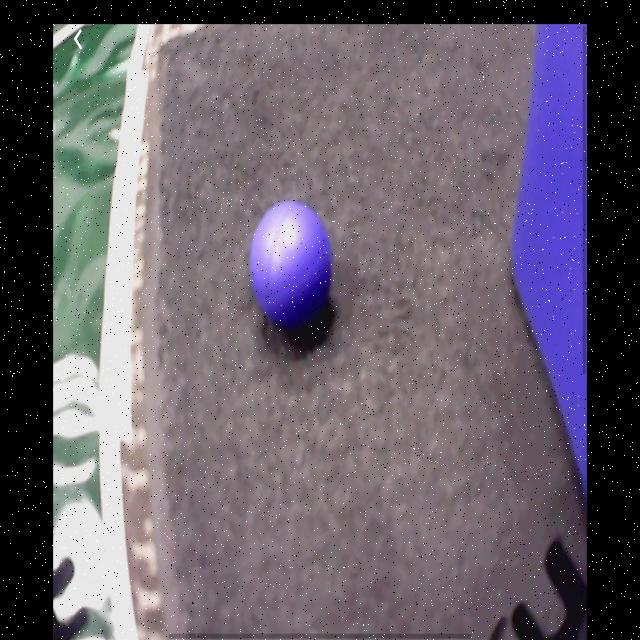ball: (249, 204, 333, 328)
